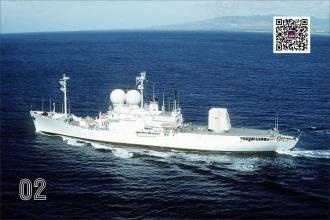warship: (29, 70, 298, 150)
